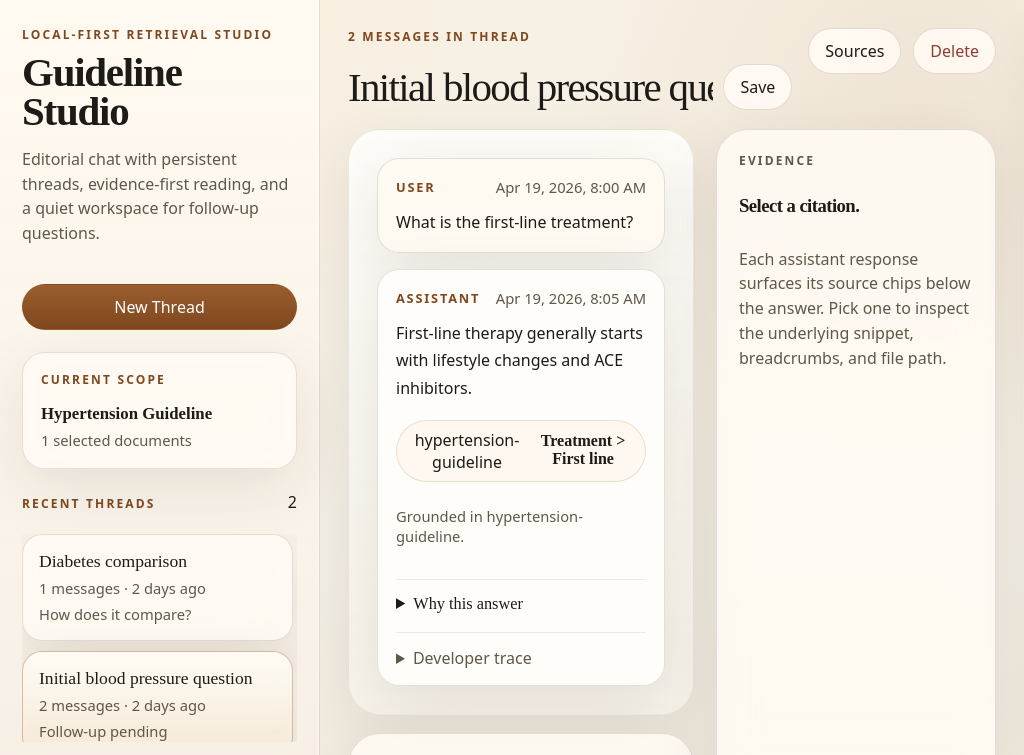
App › renders the thread rail and switches between threads
Expected: the field showing "Initial blood pressure question" is shown, [348,63,713,111]
Expected: the text "First-line therapy generally starts with lifestyle changes and ACE inhibitors." is shown, [396,320,646,402]
Click the link "Diabetes comparison".
click(158, 588)  # box [22,534,293,641]
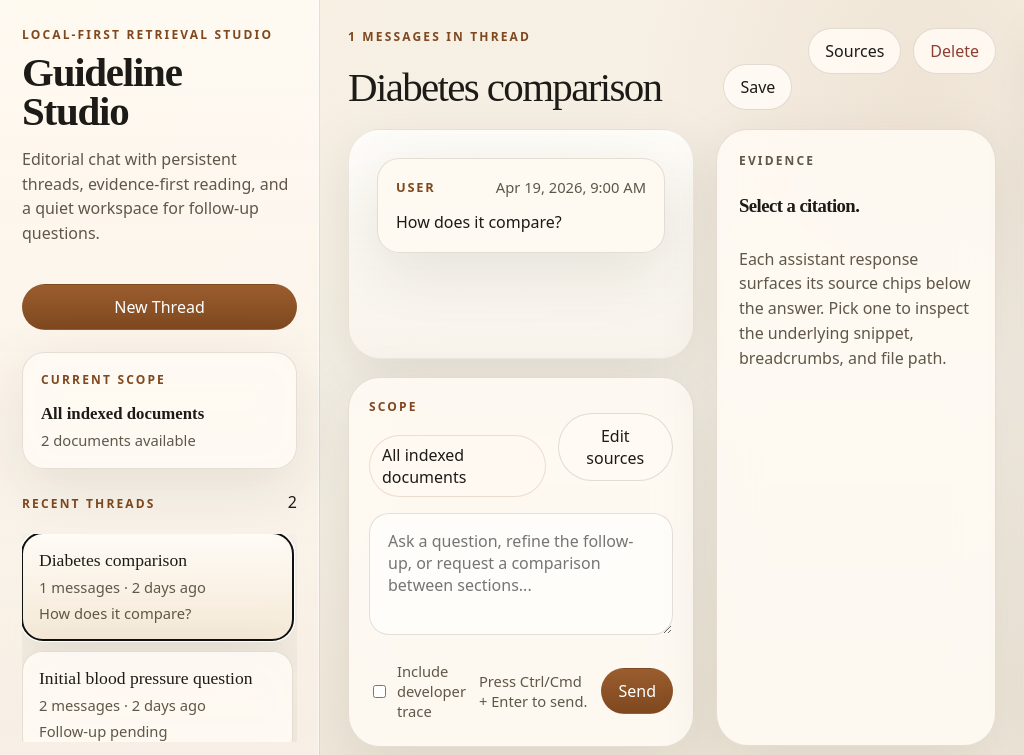
Result: the field showing "Diabetes comparison" is shown at [348,63,713,111]
Result: the text "How does it compare?" below "Apr 19, 2026, 9:00 AM" is shown at [396,211,562,233]
